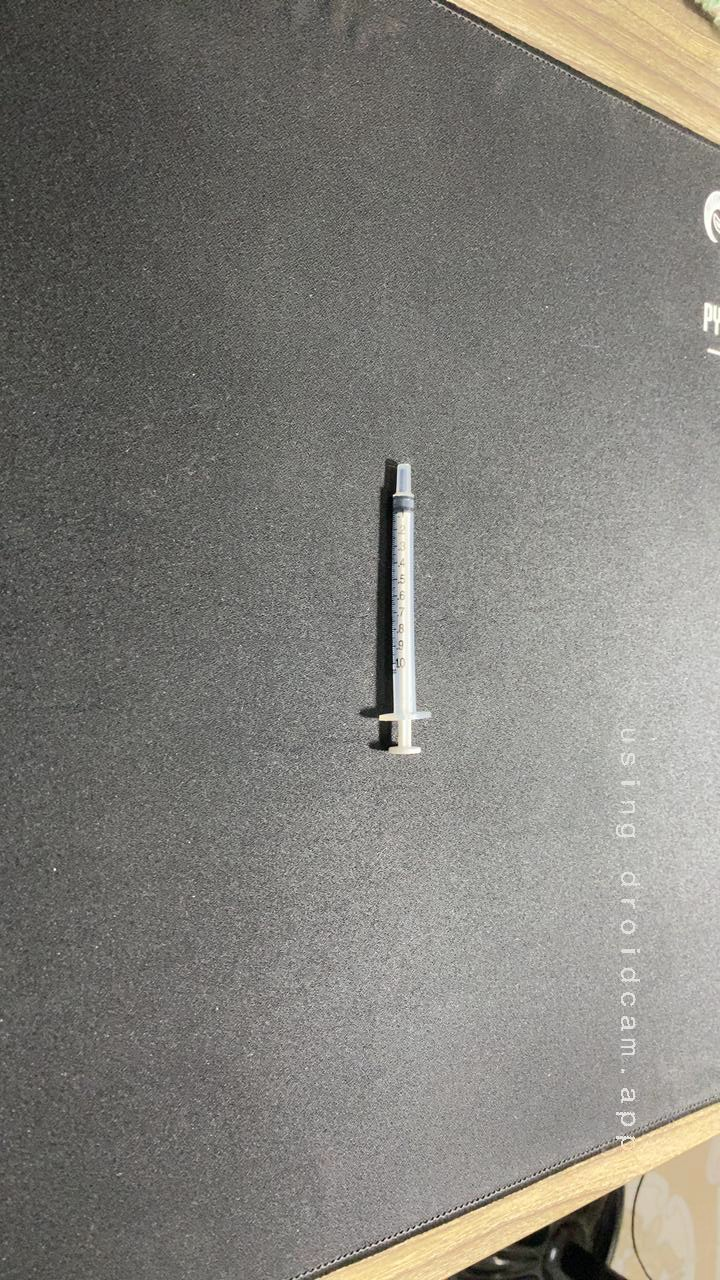syringe: (336, 453, 462, 764)
